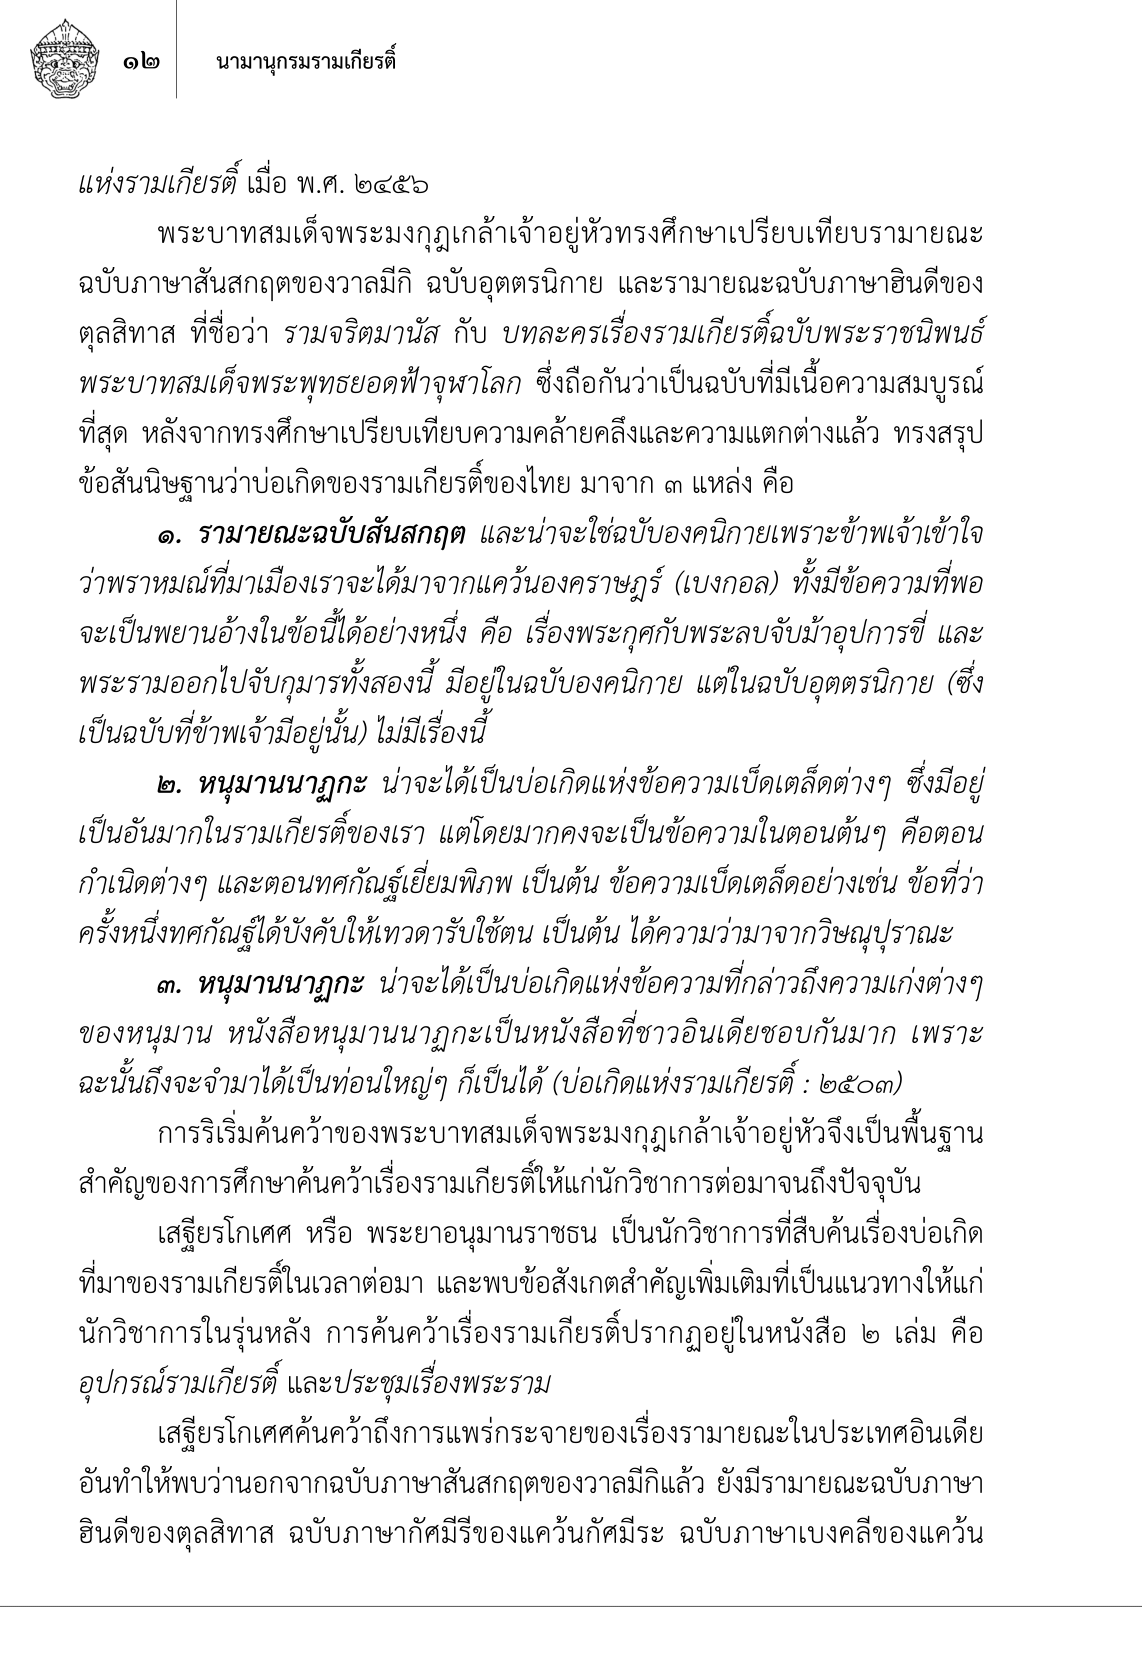thai: (75, 209, 991, 505), (73, 510, 987, 759), (73, 1205, 987, 1408), (73, 759, 987, 958), (74, 1408, 987, 1564), (74, 960, 990, 1104), (73, 1106, 987, 1205), (75, 152, 431, 204), (214, 35, 400, 79), (121, 44, 160, 77)
